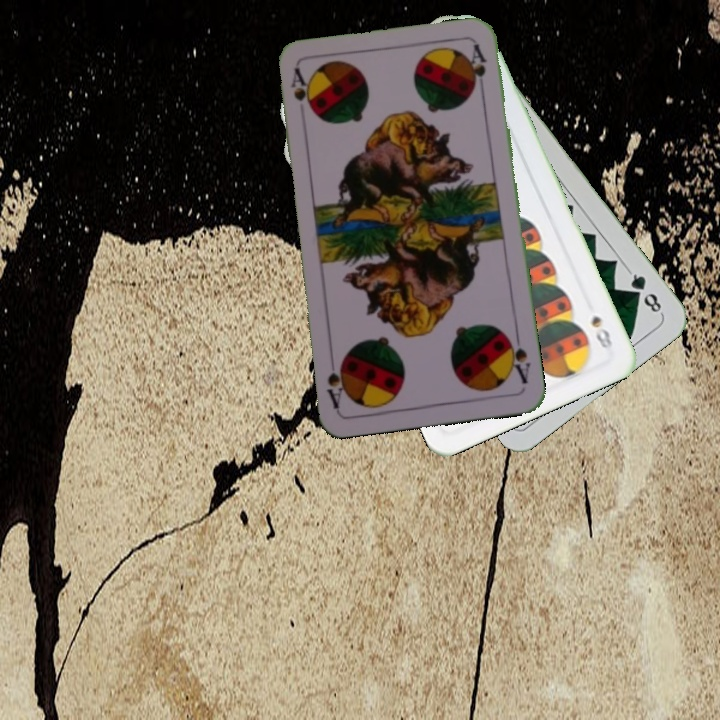G8: (624, 267, 665, 317)
S8: (587, 311, 615, 352)
SA: (502, 329, 534, 387), (286, 65, 313, 112)
